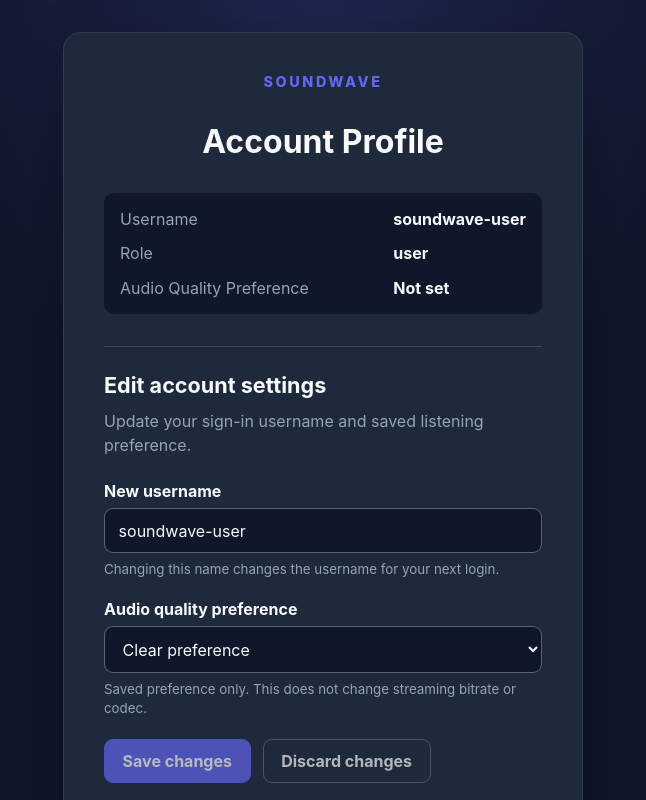
Test: SCRUM-359 profile editor › saves only the changed username and displays the server-confirmed value
Replace the text in the field labelled "New username" with "  renamed-listener  " at (323, 531), box [104,508,542,553]
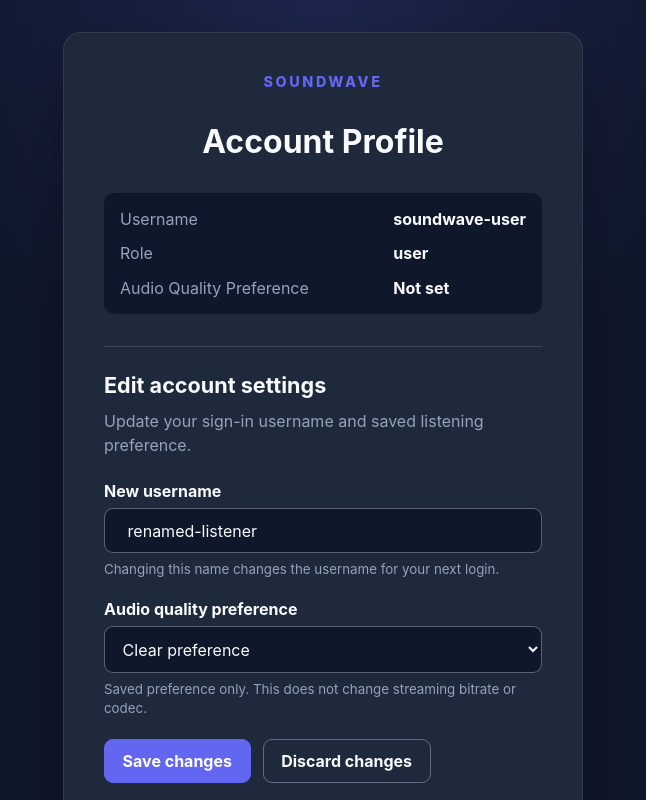
Click the button "Save changes" at (177, 761), box [104,739,250,783]
(page scrolled)
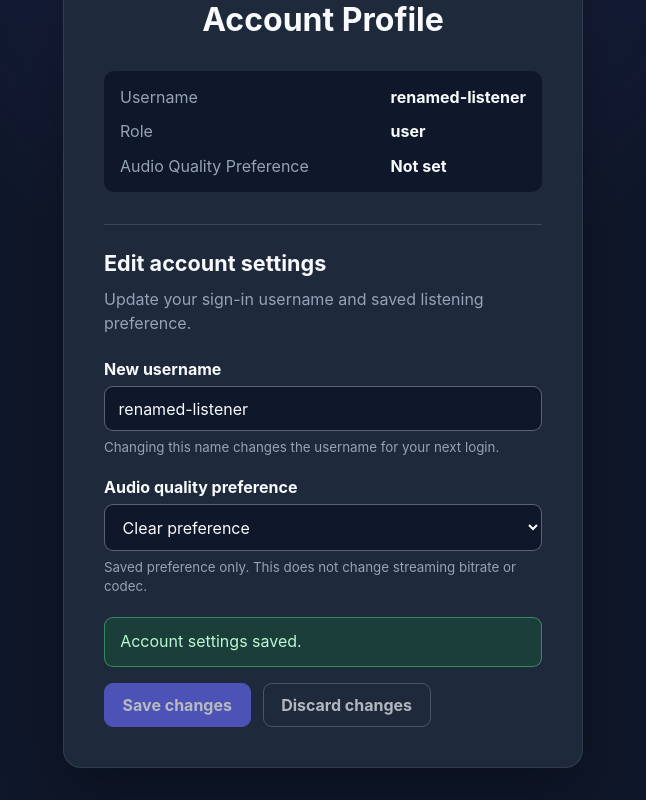
Result: the message "Account settings saved." is shown at [104,617,542,668]
Result: the message reads "Account settings saved." at [120,632,302,652]
Result: the text "renamed-listener" is shown at [390,87,526,107]
